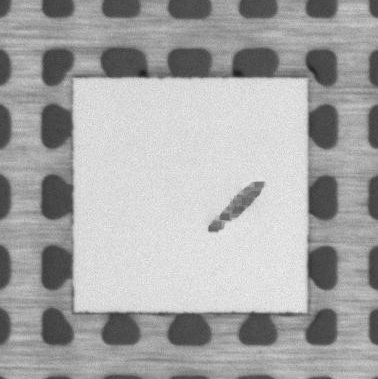DIE_INK: (204, 181, 266, 235)
